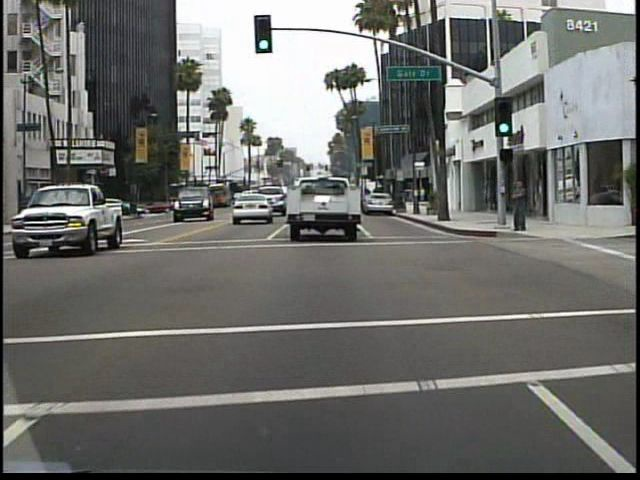person: (506, 175, 529, 238)
